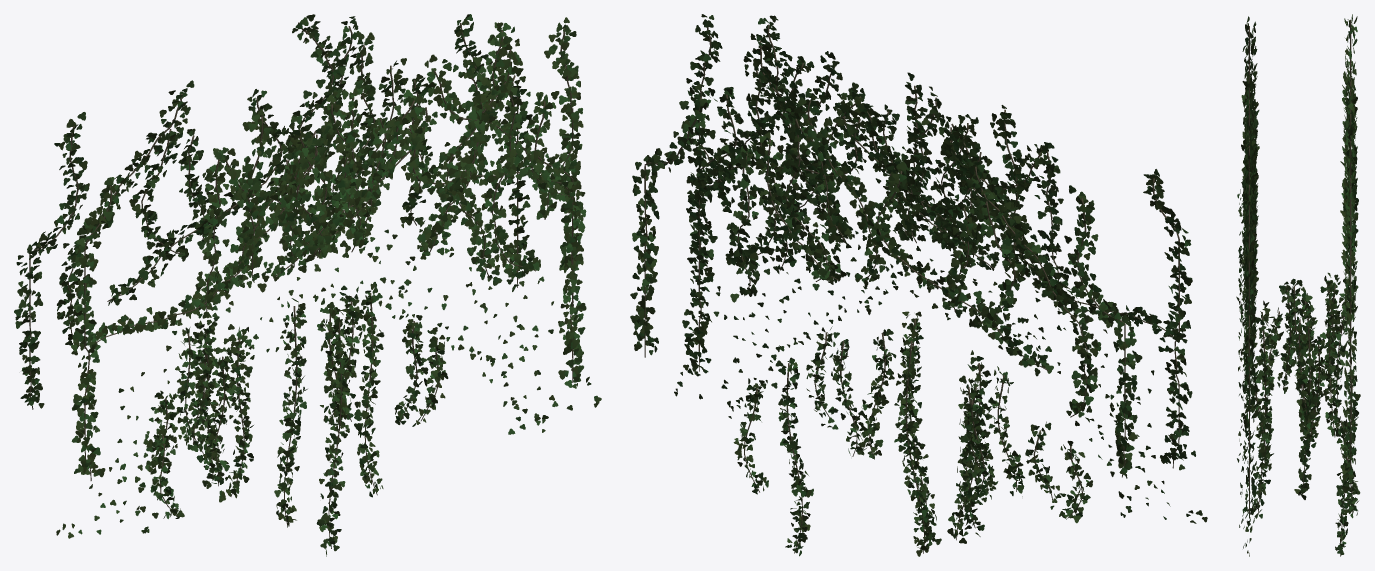
File: ER_Rideau_Lierre_Arc_4m4.gltf
3 views of the same model, side by side, from view 1: azimuth 30°, elevation 25°; view 2: azimuth 150°, elevation 25°; view 3: azimuth 270°, elevation 25° (orthographic). The views are drawn at different scales.
Parts seen in each view (by area): view 1: ER_Rideau_Lierre_Arc_4m4_FEU.001, ER_Rideau_Lierre_Arc_4m4_TIG.001; view 2: ER_Rideau_Lierre_Arc_4m4_FEU.001, ER_Rideau_Lierre_Arc_4m4_TIG.001; view 3: ER_Rideau_Lierre_Arc_4m4_FEU.001, ER_Rideau_Lierre_Arc_4m4_TIG.001.
Boxes of the visible parts, left/top/right/bottom form: ER_Rideau_Lierre_Arc_4m4_FEU.001: left=14, top=14, right=601, bottom=556; ER_Rideau_Lierre_Arc_4m4_TIG.001: left=29, top=22, right=573, bottom=548; ER_Rideau_Lierre_Arc_4m4_FEU.001: left=630, top=14, right=1207, bottom=556; ER_Rideau_Lierre_Arc_4m4_TIG.001: left=644, top=25, right=1179, bottom=553; ER_Rideau_Lierre_Arc_4m4_FEU.001: left=1236, top=14, right=1360, bottom=556; ER_Rideau_Lierre_Arc_4m4_TIG.001: left=1248, top=19, right=1353, bottom=556.
Size of the model in its own units: 4.89 by 4.29 by 1.06.
